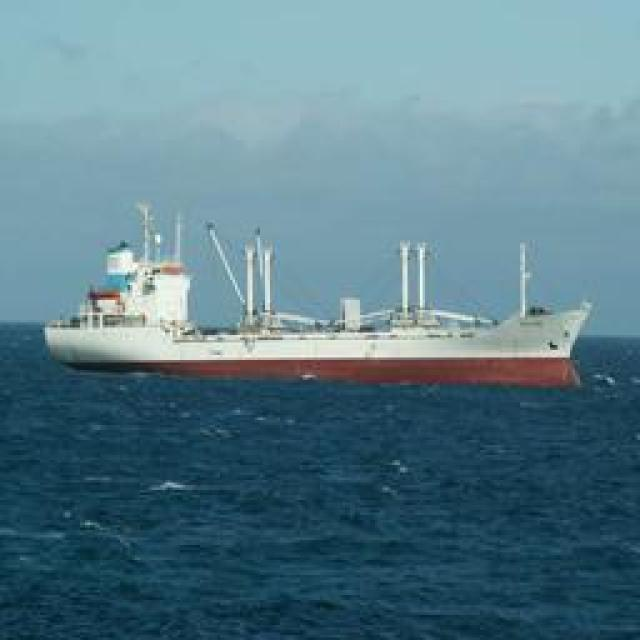CIV_Ship: (46, 206, 584, 382)
